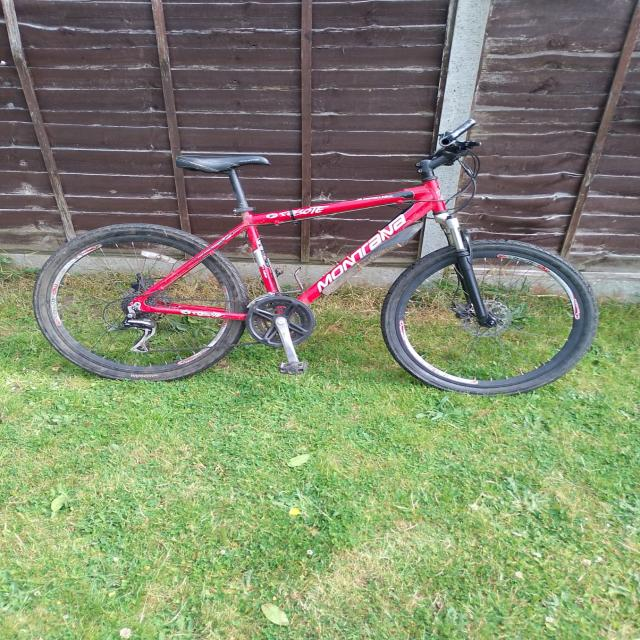bicycle: (34, 112, 612, 404)
